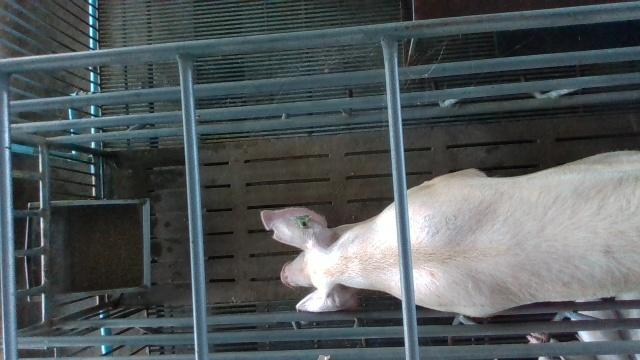piglet: (577, 299, 631, 360)
sow-stand: (259, 150, 640, 311)
